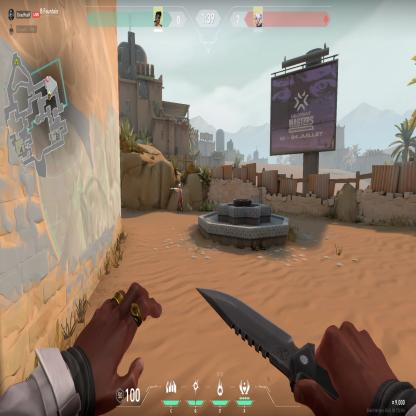enemy: (176, 182, 183, 214)
